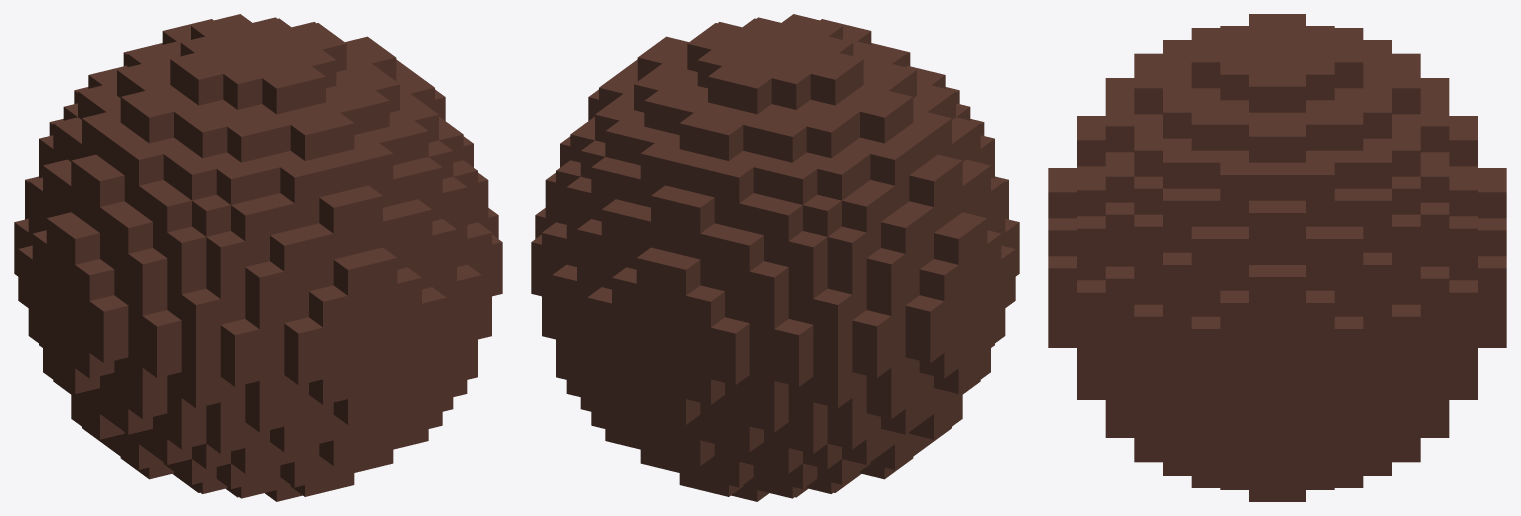
Rendered from Rock Planet.fbx.
3 views of the same model, side by side, from view 1: azimuth 30°, elevation 25°; view 2: azimuth 150°, elevation 25°; view 3: azimuth 270°, elevation 25° (orthographic).
Parts seen in each view (by area): view 1: Planet.002; view 2: Planet.002; view 3: Planet.002.
Boxes of the visible parts, x1,y1,x2,y2 form: Planet.002: (14,14,502,501); Planet.002: (531,14,1019,501); Planet.002: (1048,14,1506,501).
Size of the model in its own units: 3200 by 3200 by 3200.
